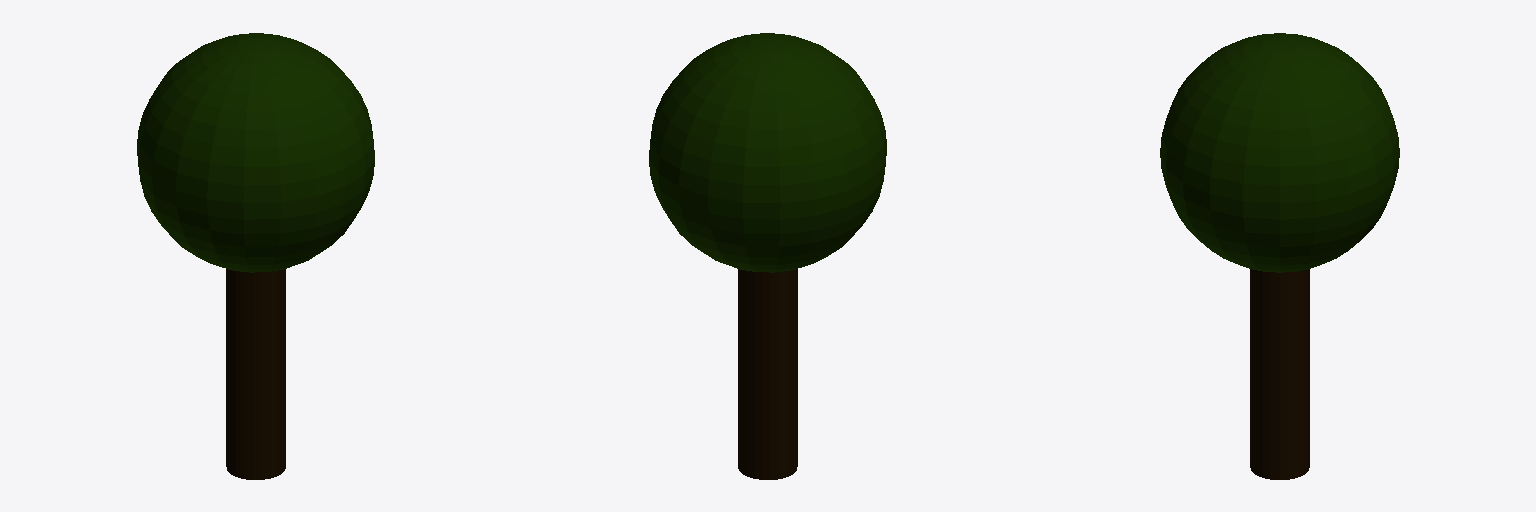
The model's file is tree.obj.
3 views of the same model, side by side, from view 1: azimuth 30°, elevation 25°; view 2: azimuth 150°, elevation 25°; view 3: azimuth 270°, elevation 25° (orthographic).
Parts seen in each view (by area): view 1: pSphere1, pCylinder1; view 2: pSphere1, pCylinder1; view 3: pSphere1, pCylinder1.
Part boxes in pixels (x1,y1,x2,y2): pSphere1: (137, 33, 374, 272); pCylinder1: (226, 269, 285, 479); pSphere1: (649, 33, 886, 272); pCylinder1: (738, 269, 797, 479); pSphere1: (1160, 33, 1399, 272); pCylinder1: (1250, 269, 1309, 479).
Size of the model in its own units: 4.81 by 9.37 by 4.81.